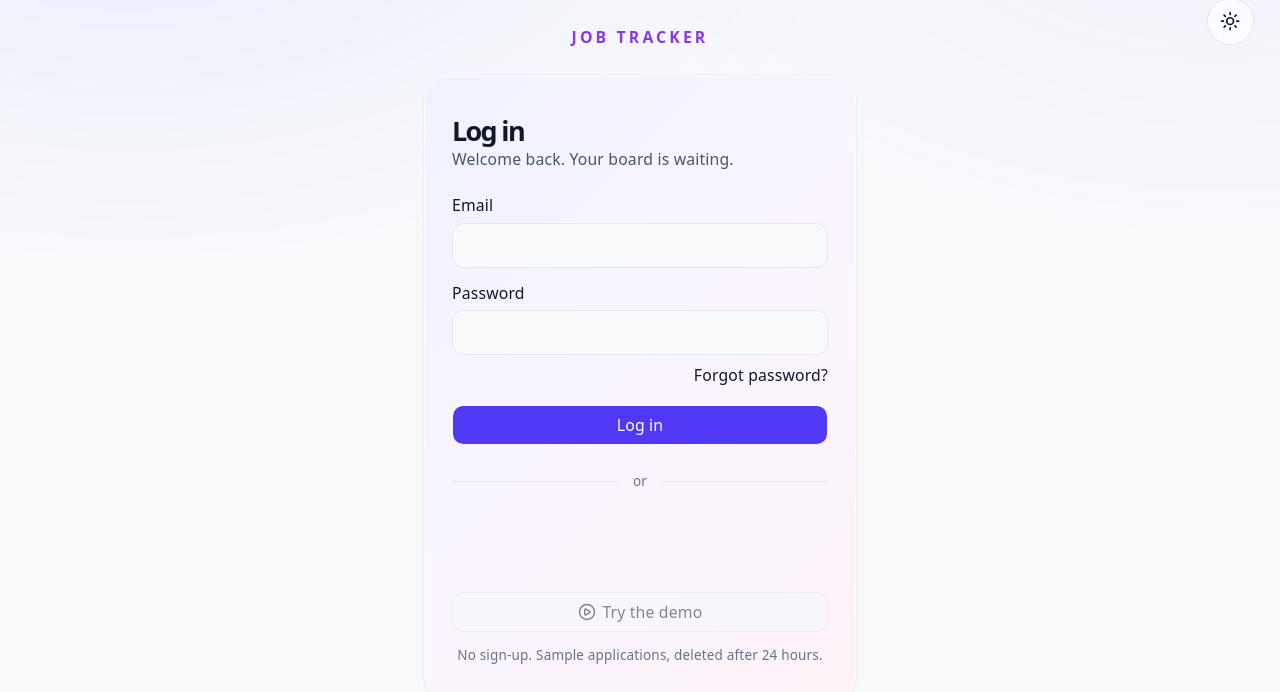
Test: authentication › logging in › never follows a ?next= link to another site
Expected: the heading "Log in" is shown, top-left (452, 112), bottom-right (524, 148)
Type "kamil@example.com" into the field labelled "Email". click: (640, 245)
box: top-left (452, 223), bottom-right (828, 268)
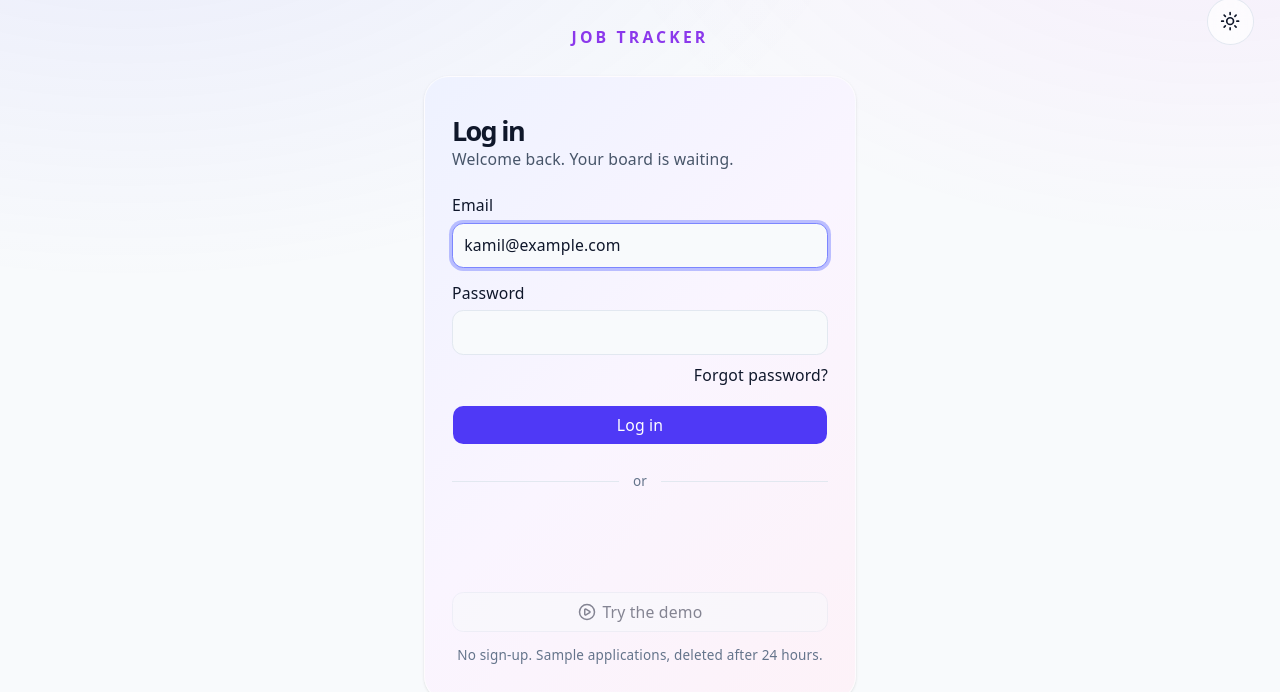
Type "correct horse battery" into the password field labelled "Password". click: (640, 333)
box: top-left (452, 310), bottom-right (828, 356)
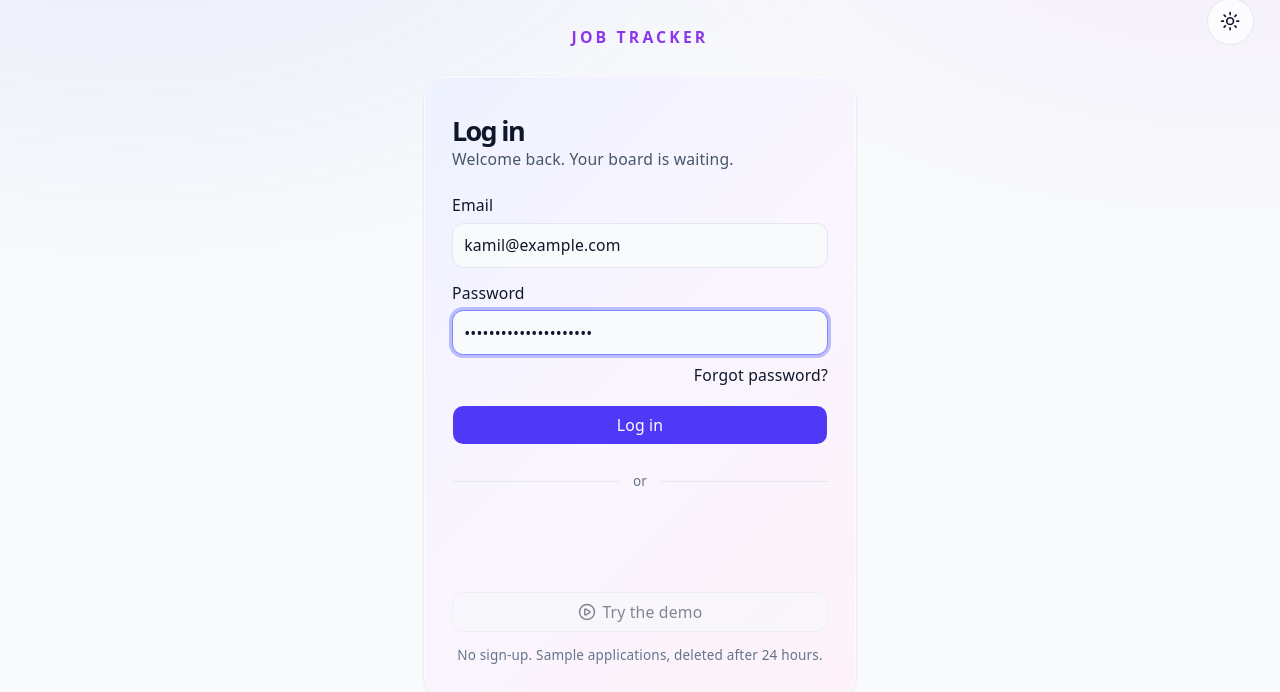
Click the button "Log in". click: (640, 425)
box: top-left (452, 405), bottom-right (828, 446)
(page scrolled)
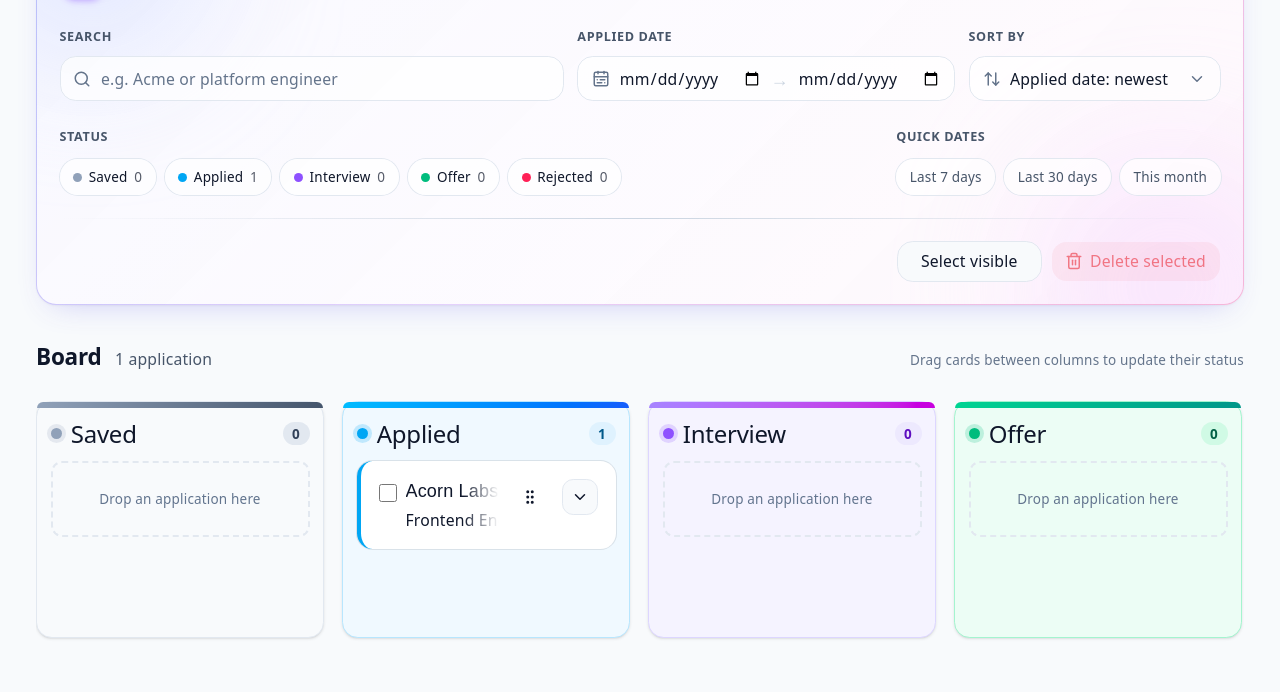
Expected: the text "Acorn Labs" is shown, top-left (406, 479), bottom-right (498, 504)
